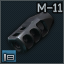AR-10 Precision Armanent M11 7.62x51 muzzle brake: (0, 0, 64, 64)
